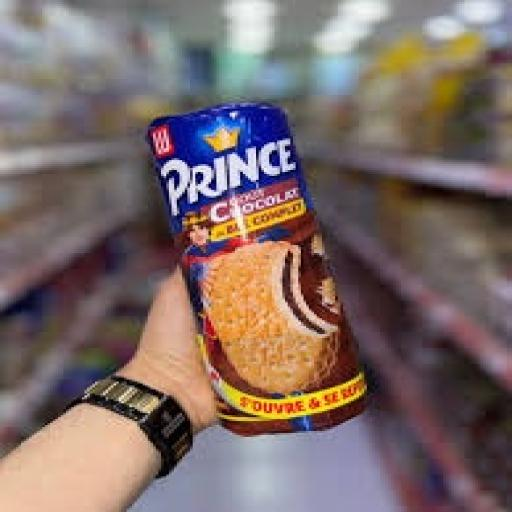prince: (68, 71, 459, 457)
